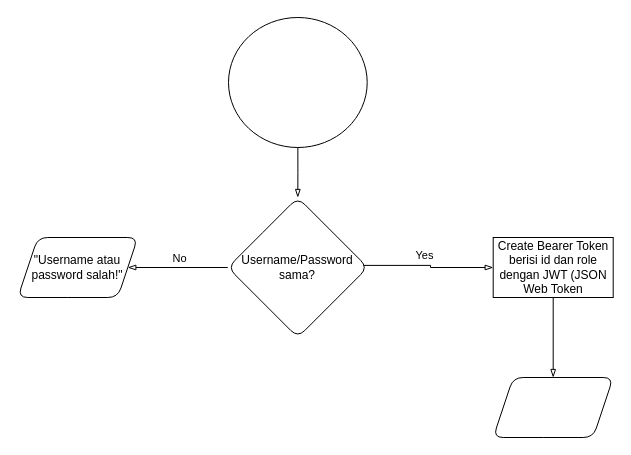
This 631x455 diagram has some shape labels left out. Each missing label, with the centre of its shape:
Login User localhost:3000/auth/login: (x=297, y=82)
Token created: (x=552, y=407)
